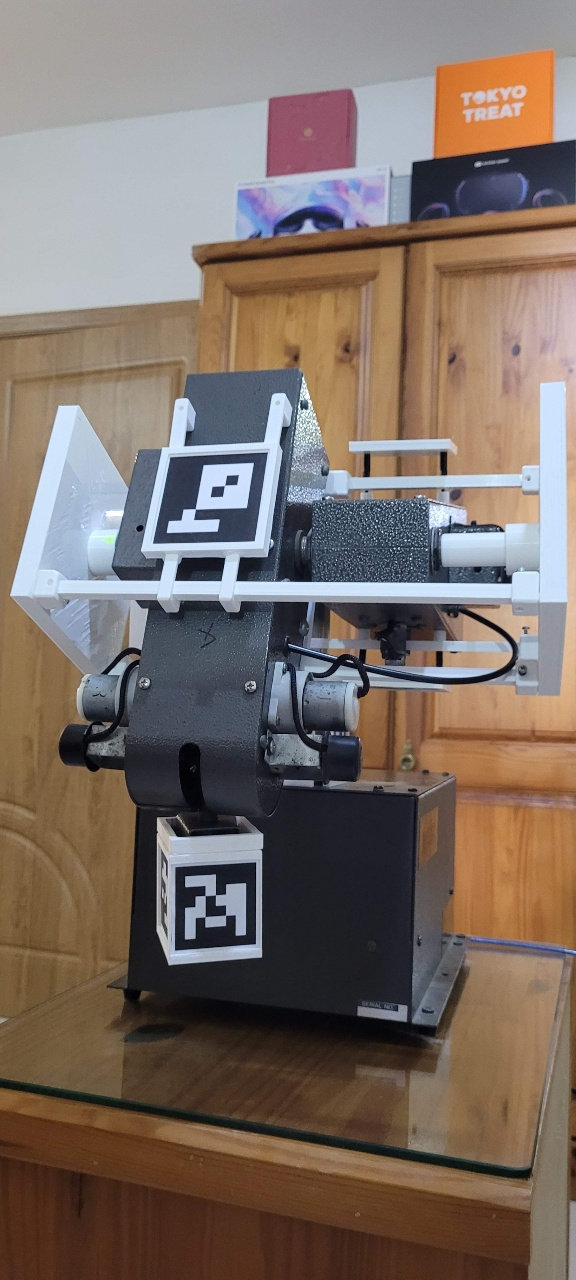Robot: (10, 365, 568, 969)
